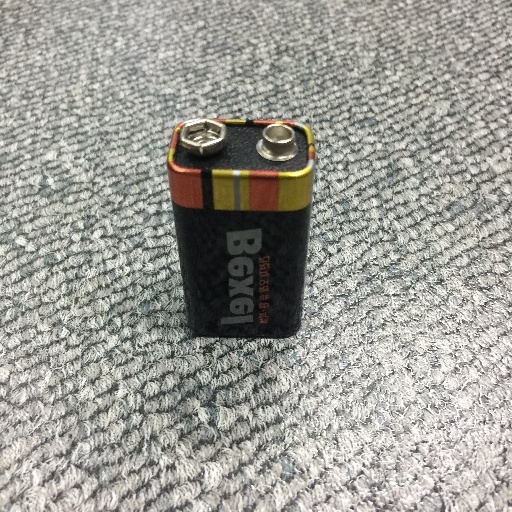Battery_3: (157, 103, 329, 354)
